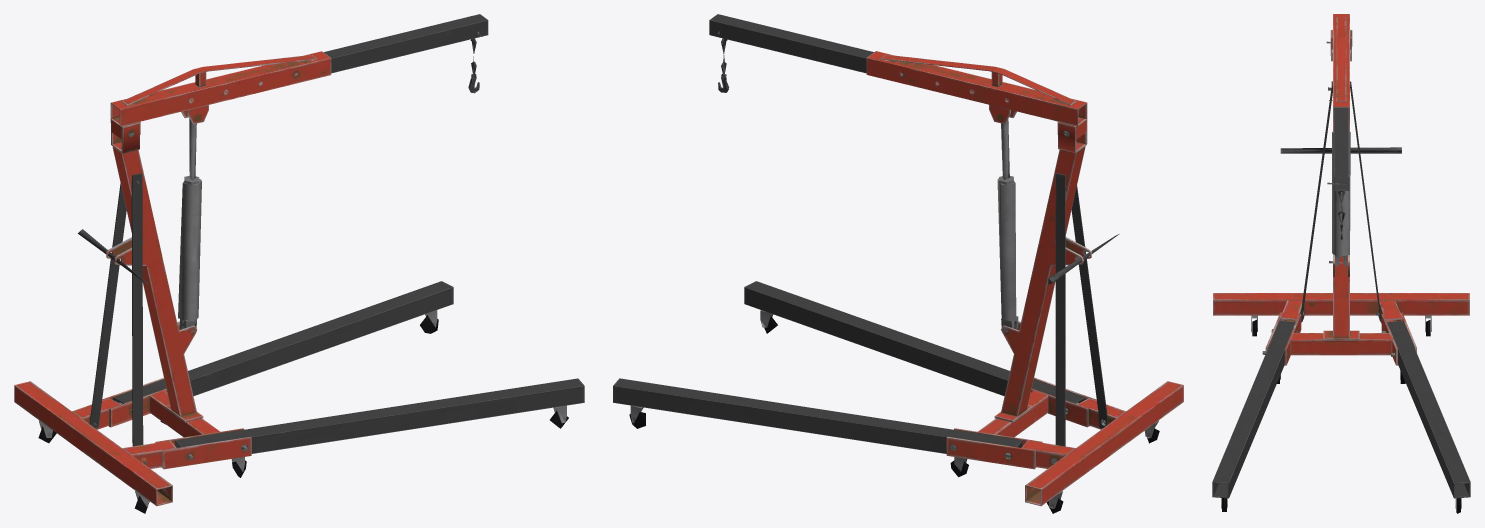
Rendered from engine_hoist_-_engine_crane.glb.
The picture shows the model from 3 angles, left to right: view 1: azimuth 30°, elevation 25°; view 2: azimuth 150°, elevation 25°; view 3: azimuth 270°, elevation 25°; orthographic projection. The views are drawn at different scales.
Visible parts, largest first — view 1: Hook_M_BlackMetal_EH_0, MainFrame_M_RedMetal_EH_0, Brackets_M_Steel_EH_0, Wheels_M_Wheels_EH_0; view 2: Hook_M_BlackMetal_EH_0, MainFrame_M_RedMetal_EH_0, Brackets_M_Steel_EH_0, Wheels_M_Wheels_EH_0; view 3: MainFrame_M_RedMetal_EH_0, Hook_M_BlackMetal_EH_0, Brackets_M_Steel_EH_0, Wheels_M_Wheels_EH_0.
Boxes of the visible parts, x1=… form: Hook_M_BlackMetal_EH_0: x1=78, y1=14, x2=584, y2=453; MainFrame_M_RedMetal_EH_0: x1=14, y1=51, x2=331, y2=506; Brackets_M_Steel_EH_0: x1=39, y1=31, x2=566, y2=507; Wheels_M_Wheels_EH_0: x1=38, y1=315, x2=568, y2=513; Hook_M_BlackMetal_EH_0: x1=613, y1=14, x2=1119, y2=453; MainFrame_M_RedMetal_EH_0: x1=866, y1=51, x2=1183, y2=506; Brackets_M_Steel_EH_0: x1=630, y1=31, x2=1158, y2=508; Wheels_M_Wheels_EH_0: x1=629, y1=316, x2=1159, y2=513; MainFrame_M_RedMetal_EH_0: x1=1213, y1=14, x2=1469, y2=365; Hook_M_BlackMetal_EH_0: x1=1212, y1=81, x2=1470, y2=498; Brackets_M_Steel_EH_0: x1=1221, y1=41, x2=1461, y2=508; Wheels_M_Wheels_EH_0: x1=1222, y1=319, x2=1460, y2=513.
Size of the model in its own units: 0.0731 by 0.0619 by 0.042.
4 materials, 3 textured.
